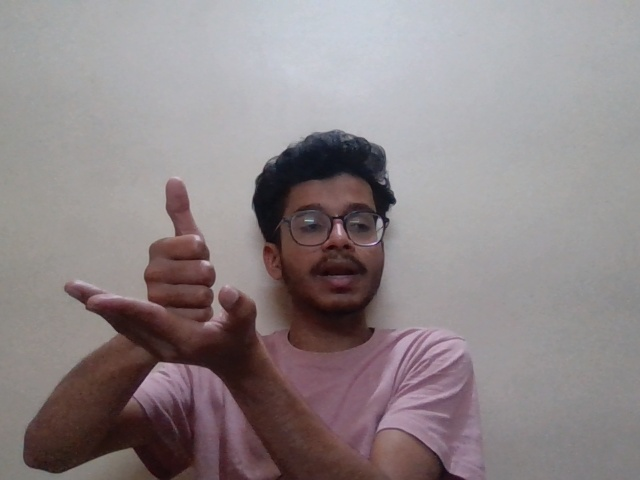help: (61, 162, 269, 398)
